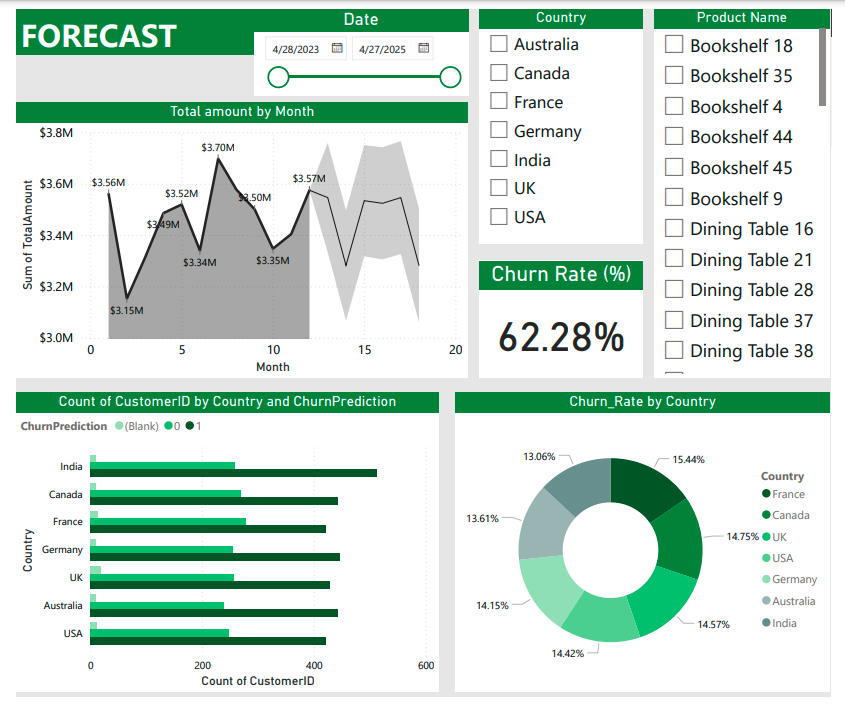

This screenshot's page, from the dashboard's own definition file:
{"tool":"powerbi","page":{"name":"Forecast","canvas":[959,811],"ordinal":5},"visuals":[{"type":"shape","box":[0,0,470.5,55.1],"z":0},{"type":"textbox","box":[0,0,279.5,69.2],"z":1000},{"type":"slicer","title":"Date","fields":{"Values":["OrderDate.Date"]},"box":[280,0,252.3,103.1],"z":2000},{"type":"lineChart","title":" Total amount by  Month  ","fields":{"Category":["OrderDate.Day","OrderDate.Month","OrderDate.Year"],"Y":["Sum(orders.TotalAmount)"]},"box":[0,110.8,532.3,324.6],"z":3000},{"type":"slicer","title":"Product Name","fields":{"Values":["products.ProductName"]},"box":[750.8,0,207.7,435.4],"z":4000},{"type":"slicer","title":"Country","fields":{"Values":["customers.Country"]},"box":[544.6,0,193.8,276.9],"z":5000},{"type":"card","title":"Churn Rate (%)","fields":{"Values":["churn_predictions.Churn Rate (%)"]},"box":[544.6,296.9,193.8,138.5],"z":6000},{"type":"clusteredBarChart","title":"Total CustomerID by Country and ChurnPrediction","fields":{"Category":["customers.Country"],"Y":["CountNonNull(customers.CustomerID)"],"Series":["churn_predictions.ChurnPrediction"]},"box":[0,452.3,496.9,352.3],"z":7000},{"type":"donutChart","title":" Churn Prediction by Country","fields":{"Category":["churn_predictions.Country"],"Y":["Sum(churn_predictions.ChurnPrediction)"]},"box":[516.9,452.3,441.5,352.3],"z":8000}]}

Visuals, with their boxes in screenshot pixels (x1, y1, x2, y2), scaled from the page's 959x811 canvas onto the 845x708 screenshot:
shape: rect(0, 0, 415, 48)
textbox: rect(0, 0, 246, 60)
"Date" slicer: rect(247, 0, 469, 90)
" Total amount by  Month  " lineChart: rect(0, 97, 469, 380)
"Product Name" slicer: rect(662, 0, 844, 380)
"Country" slicer: rect(480, 0, 651, 242)
"Churn Rate (%)" card: rect(480, 259, 651, 380)
"Total CustomerID by Country and ChurnPrediction" clusteredBarChart: rect(0, 395, 438, 702)
" Churn Prediction by Country" donutChart: rect(455, 395, 844, 702)
